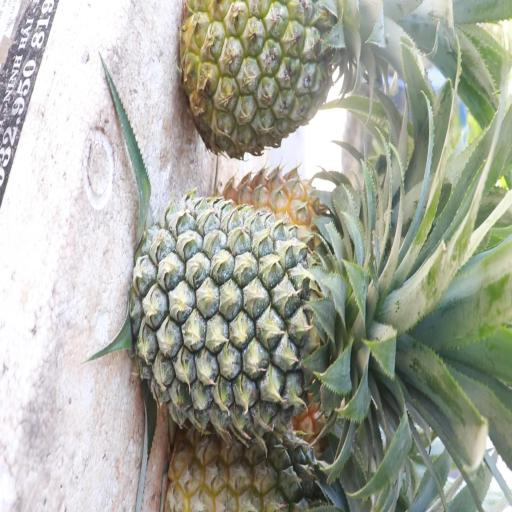------------------------------: (184, 0, 354, 153)
